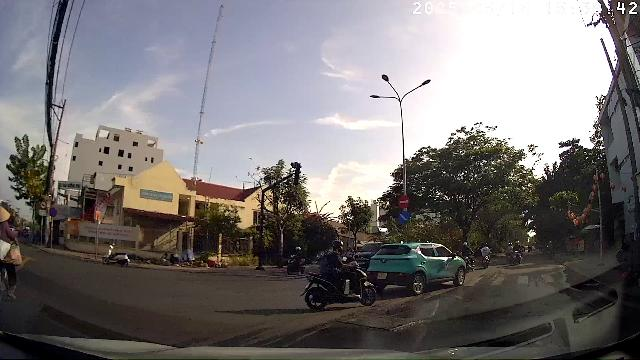102-cam-di-nguoc-chieu: (398, 195, 410, 209)
302a-huong-phai-di-vong-chuong-ngai-vat-1: (398, 211, 410, 225)
